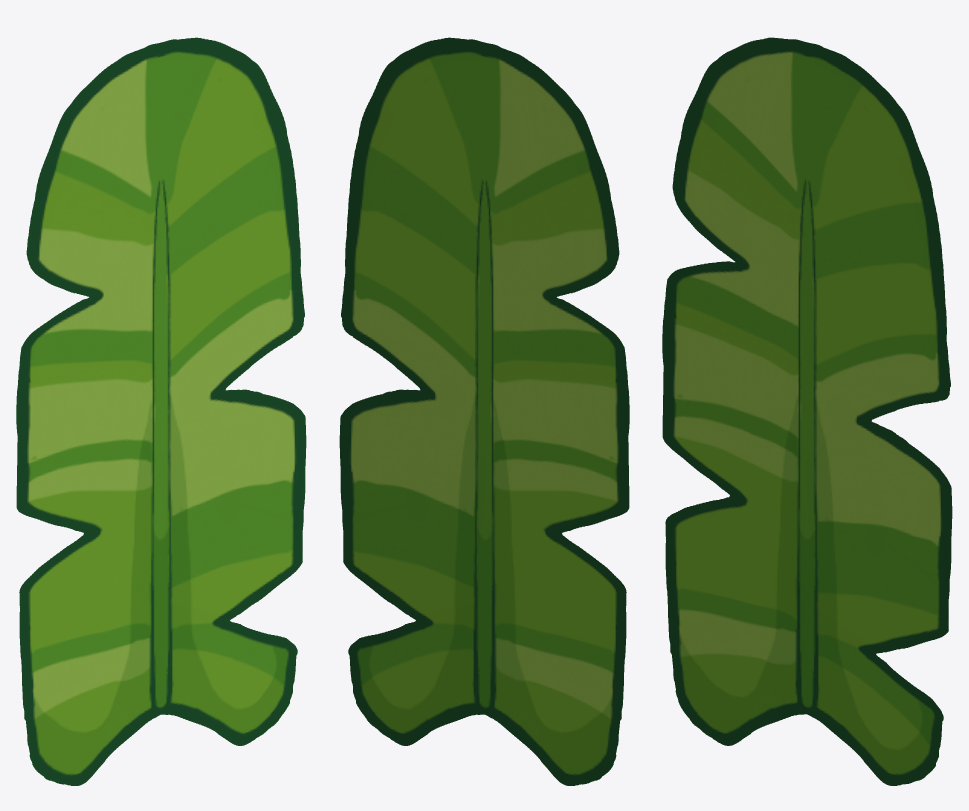
File: HojaG.fbx
3 views of the same model, side by side, from view 1: azimuth 30°, elevation 25°; view 2: azimuth 150°, elevation 25°; view 3: azimuth 330°, elevation 25° (orthographic).
Visible parts, largest first — view 1: HojaG; view 2: HojaG; view 3: HojaG.
Boxes of the visible parts, left/top/right/bottom form: HojaG: left=16, top=37, right=306, bottom=785; HojaG: left=339, top=37, right=629, bottom=785; HojaG: left=662, top=37, right=952, bottom=785.
Size of the model in its own units: 0.5203 by 1.24 by 5.44e-08.
